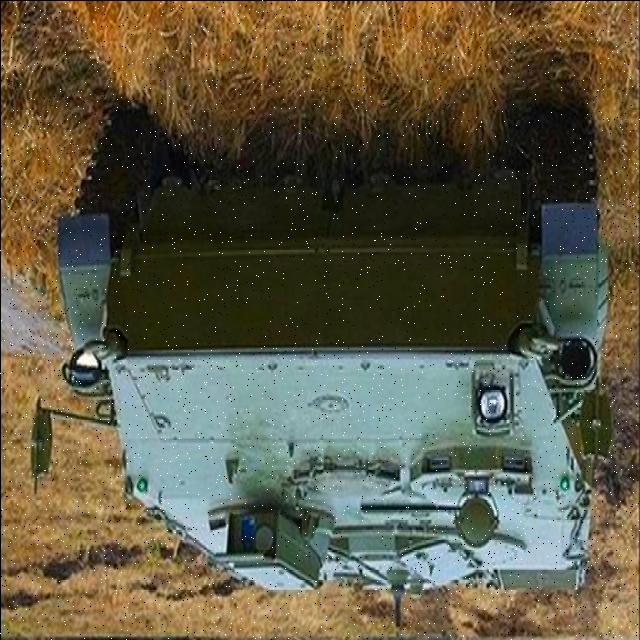APC-IFV: (49, 73, 616, 611)
